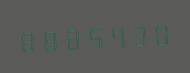eight: (39, 22, 60, 54), (61, 21, 82, 53), (17, 24, 38, 55)
five: (83, 20, 104, 52)
four: (105, 19, 126, 51)
three: (127, 18, 148, 50)
zero: (149, 17, 170, 49)
